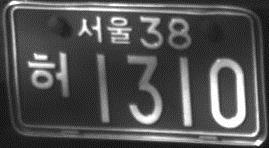0: (209, 55, 247, 130)
1: (173, 54, 197, 129), (93, 52, 113, 126)
3: (124, 52, 165, 126), (138, 15, 165, 50)
8: (166, 17, 191, 51)
서울_O: (77, 14, 134, 45)
허: (25, 49, 72, 99)
